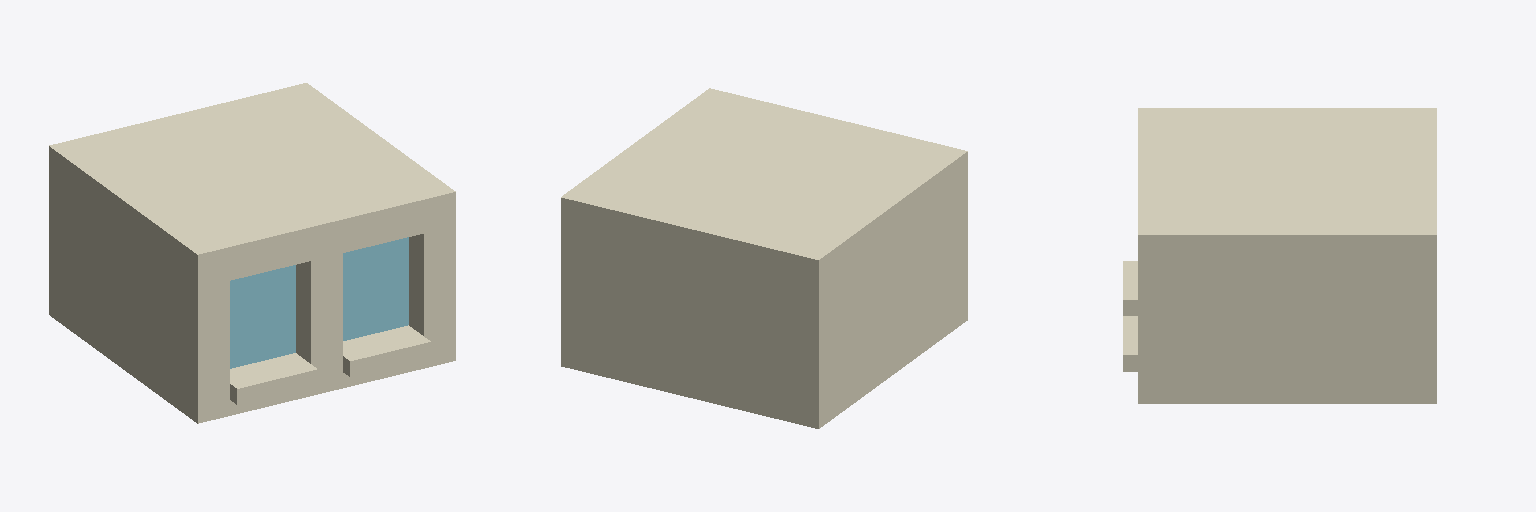
Rendered from houseFloor2.obj.
3 views of the same model, side by side, from view 1: azimuth 30°, elevation 25°; view 2: azimuth 150°, elevation 25°; view 3: azimuth 270°, elevation 25° (orthographic).
Visible parts, largest first — view 1: Mesh1_Group1_Model.011; view 2: Mesh1_Group1_Model.011; view 3: Mesh1_Group1_Model.011.
Part boxes in pixels (x1,y1,x2,y2): Mesh1_Group1_Model.011: (49, 83, 455, 423); Mesh1_Group1_Model.011: (561, 88, 967, 428); Mesh1_Group1_Model.011: (1123, 108, 1436, 403).
Bounding box in the file's own units: 1 × 0.625 × 1.05.